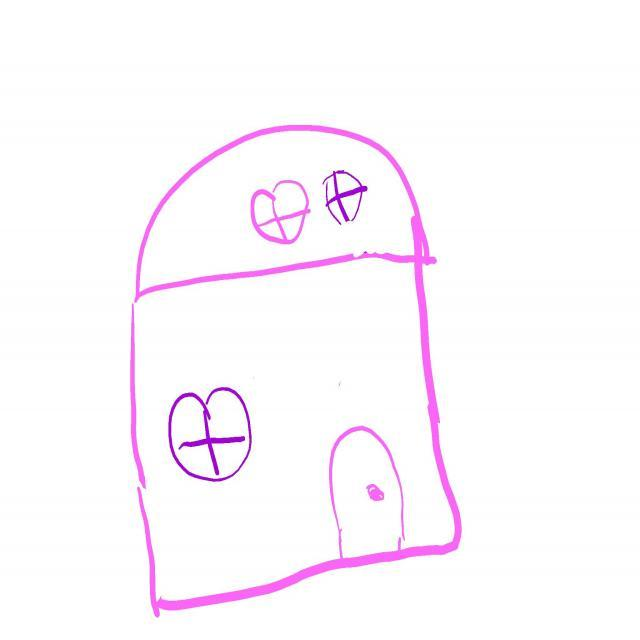door: (331, 427, 406, 559)
house: (131, 125, 461, 616)
roof: (132, 127, 429, 302)
wall: (133, 255, 461, 615)
window: (168, 388, 252, 482), (251, 180, 310, 244), (324, 170, 368, 224)
